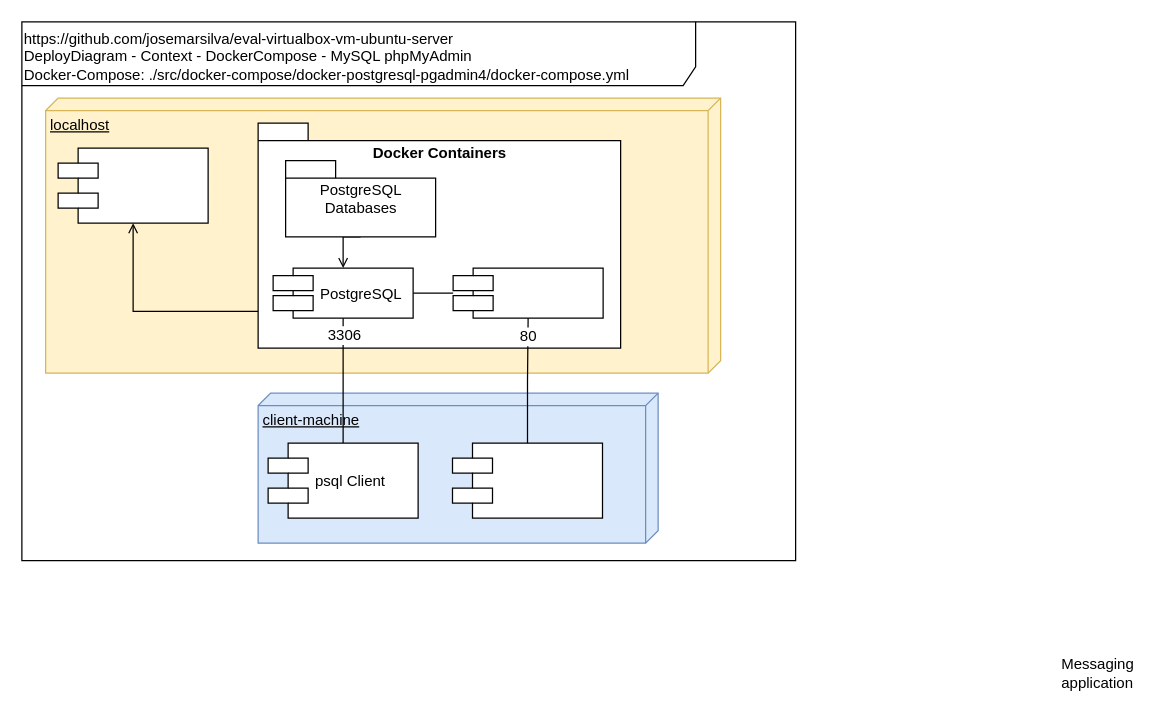
The diagram is 1169 pixels wide and 714 high, and some of its shapes have lost their labels. The box of each missing label's shape, as (x1, y1, x2, y2) in pixels:
Docker / Composer: (57, 147, 208, 223)
Http Browser: (451, 442, 602, 518)
pgAdmin4: (452, 267, 603, 318)
